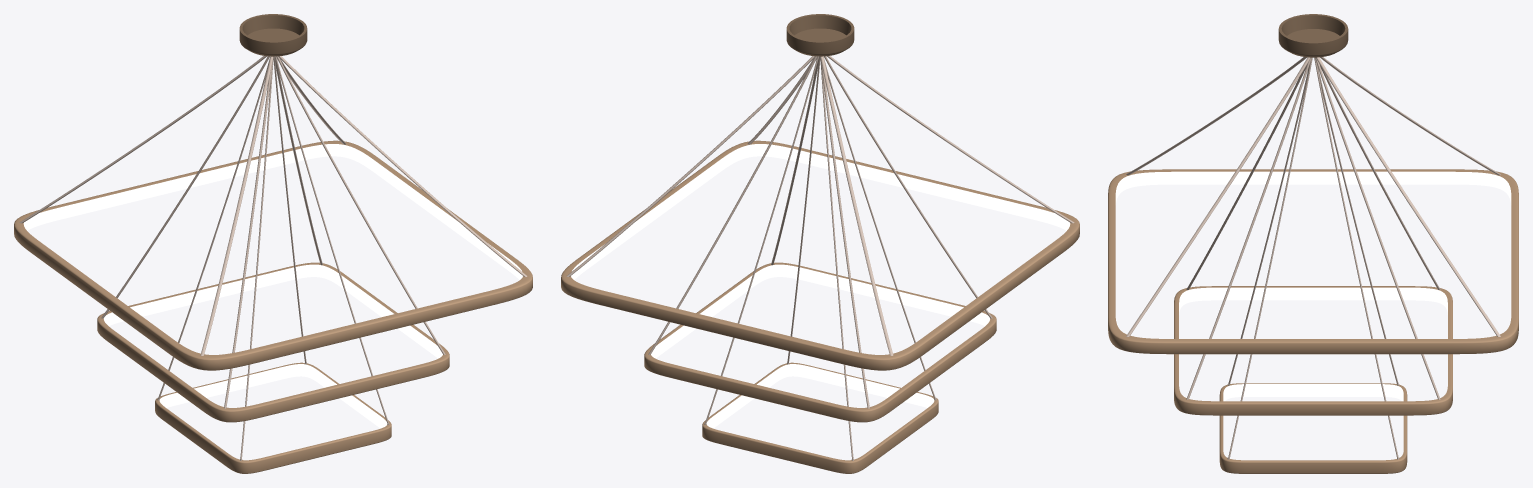
Rendered from hanging_led_lamp.glb.
The picture shows the model from 3 angles, left to right: view 1: azimuth 30°, elevation 25°; view 2: azimuth 150°, elevation 25°; view 3: azimuth 270°, elevation 25°; orthographic projection. The views are drawn at different scales.
Visible parts, largest first — view 1: lamp, Cylinder; view 2: lamp, Cylinder; view 3: lamp, Cylinder.
Boxes of the visible parts, <box> form: lamp: <box>14,56,532,473</box>; Cylinder: <box>239,14,307,56</box>; lamp: <box>561,56,1079,473</box>; Cylinder: <box>786,14,854,56</box>; lamp: <box>1108,57,1518,473</box>; Cylinder: <box>1278,14,1348,57</box>.
Size of the model in its own units: 2.03 by 2.22 by 2.03.
